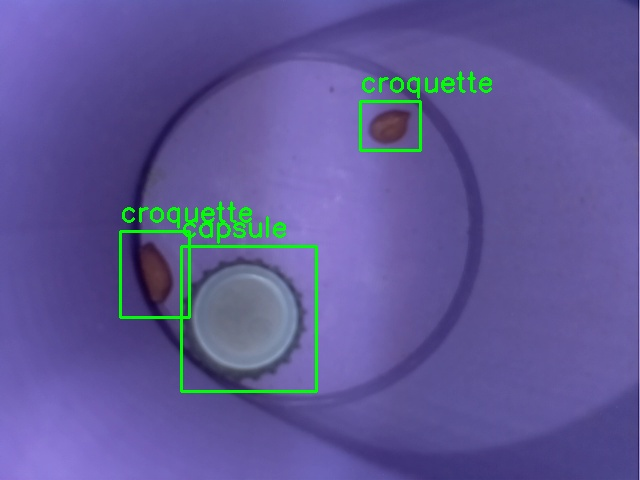capsule: (181, 246, 316, 391)
croquette: (120, 231, 189, 317), (360, 101, 420, 150)
